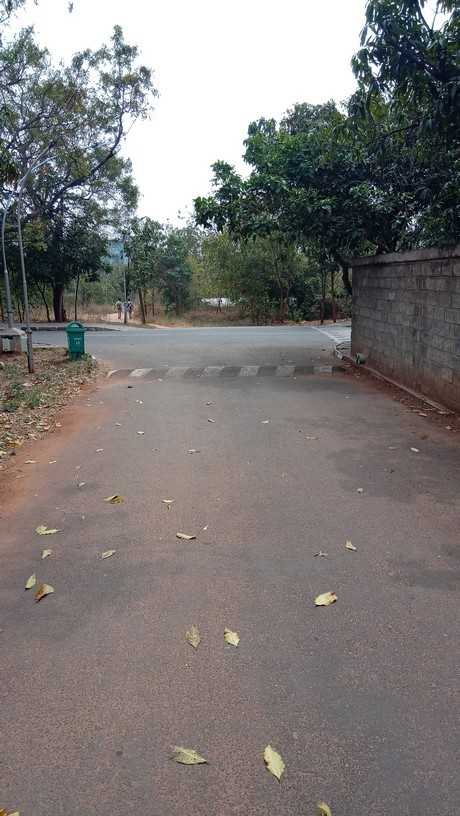bump: (87, 361, 355, 376)
